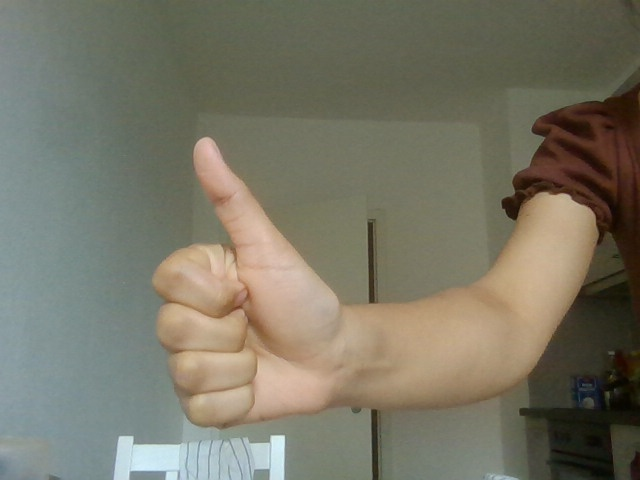thumbs_up: (139, 134, 342, 430)
